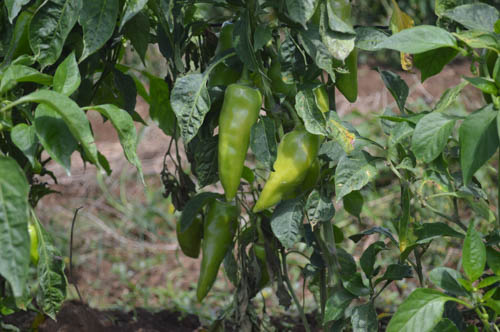ChiliPepper: (252, 130, 315, 214), (215, 86, 260, 198), (197, 202, 238, 302), (174, 215, 202, 258)
